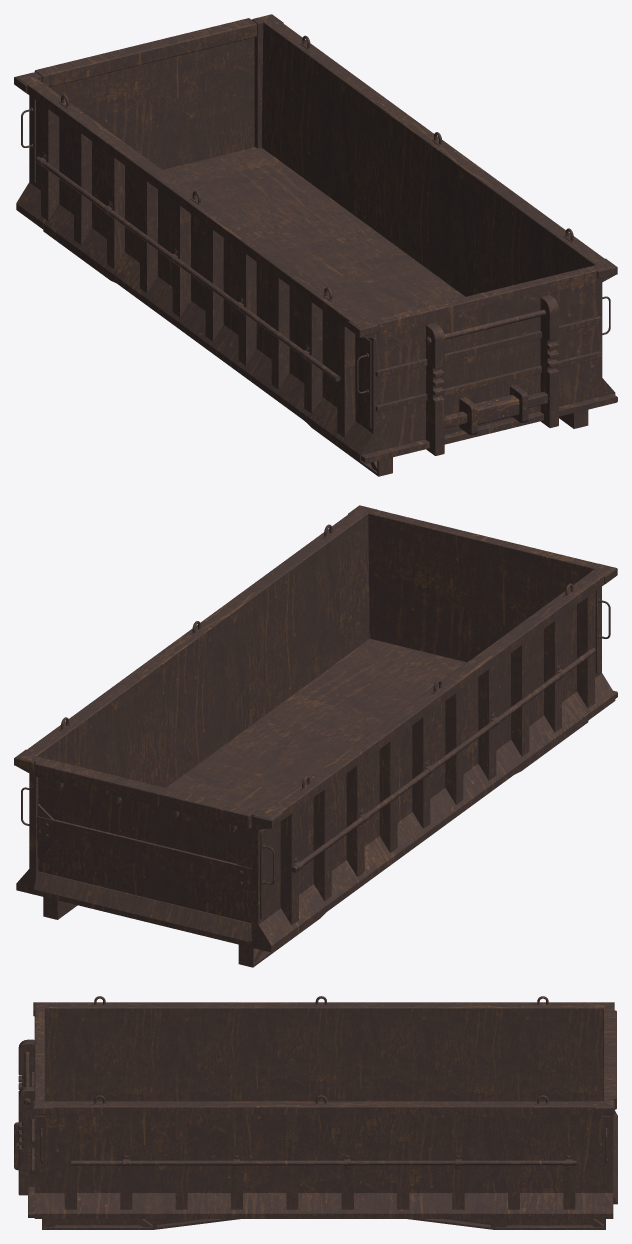
Rendered from container_garbage_metallic_-_2mb.glb.
3 views of the same model, one above another, from view 1: azimuth 30°, elevation 25°; view 2: azimuth 150°, elevation 25°; view 3: azimuth 270°, elevation 25° (orthographic). The views are drawn at different scales.
Visible parts, largest first — view 1: 01__0; view 2: 01__0; view 3: 01__0.
Boxes of the visible parts, x1,y1,x2,y2 form: 01__0: (14,14,617,476); 01__0: (14,505,617,967); 01__0: (14,996,617,1229).
Size of the model in its own units: 3.08 by 1.88 by 7.31.
Materials: 1 (1 with a texture image).
